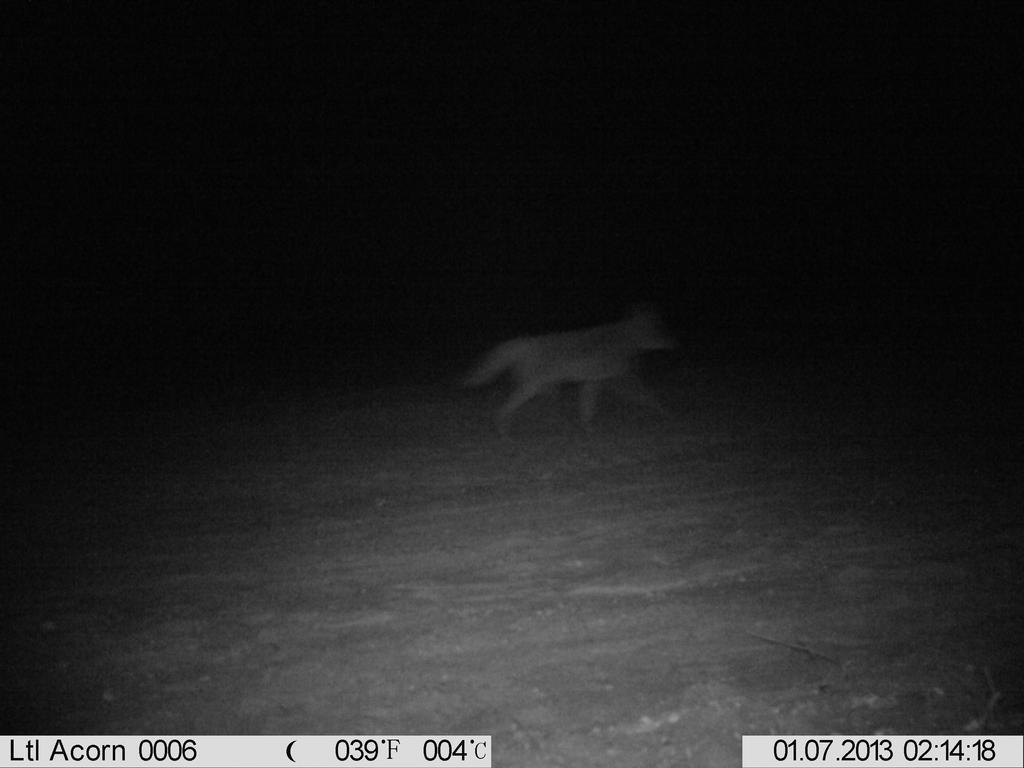coyote: (451, 296, 693, 455)
